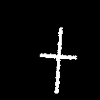single_crochet: (40, 28, 76, 92)
